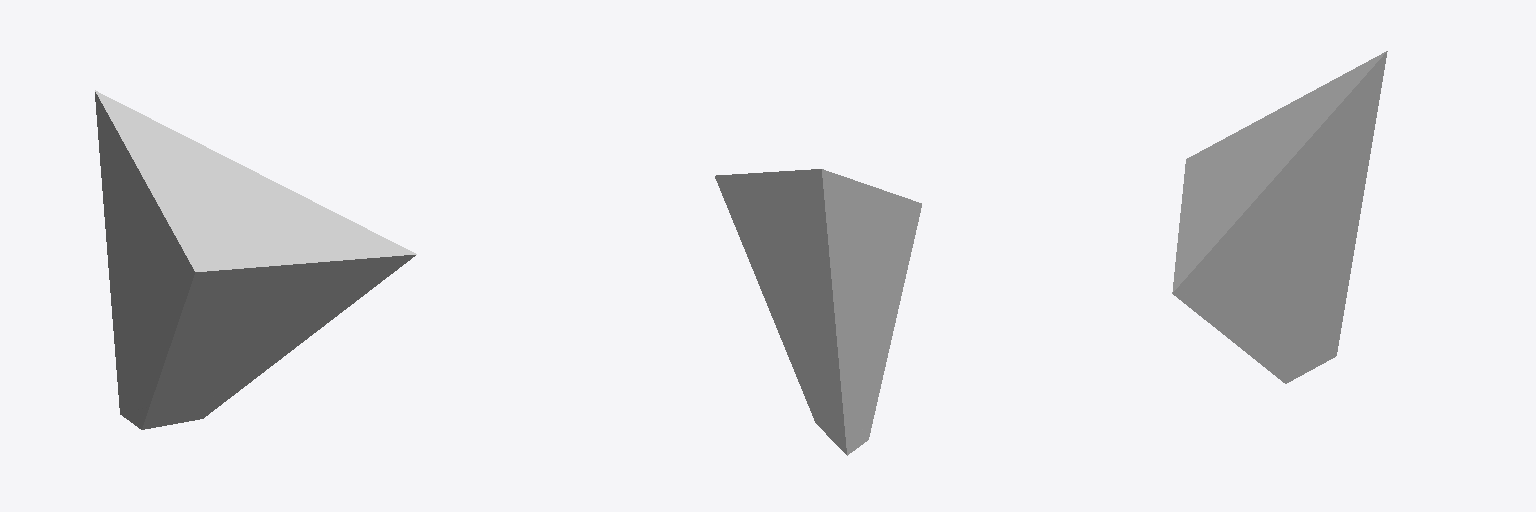
The model's file is CubeShatter05.obj.
The picture shows the model from 3 angles: view 1: azimuth 30°, elevation 25°; view 2: azimuth 150°, elevation 25°; view 3: azimuth 270°, elevation 25°; orthographic projection.
Parts seen in each view (by area): view 1: CubeShatter05; view 2: CubeShatter05; view 3: CubeShatter05.
Boxes of the visible parts, x1=… form: CubeShatter05: x1=95, y1=90, x2=416, y2=429; CubeShatter05: x1=715, y1=169, x2=921, y2=455; CubeShatter05: x1=1172, y1=51, x2=1387, y2=383.
Size of the model in its own units: 1.35 by 1.84 by 1.17.